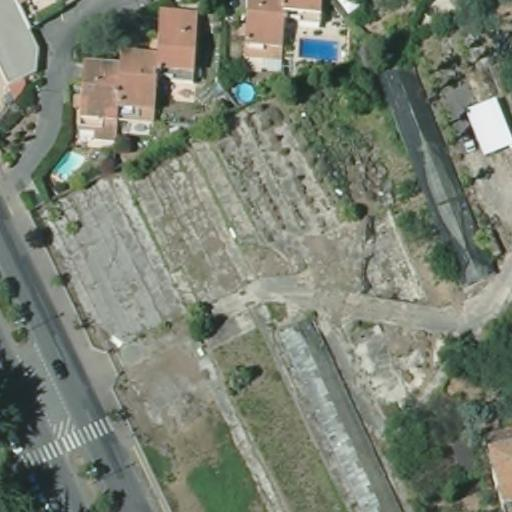pool: (296, 33, 343, 64), (48, 148, 85, 182), (233, 82, 257, 102)
